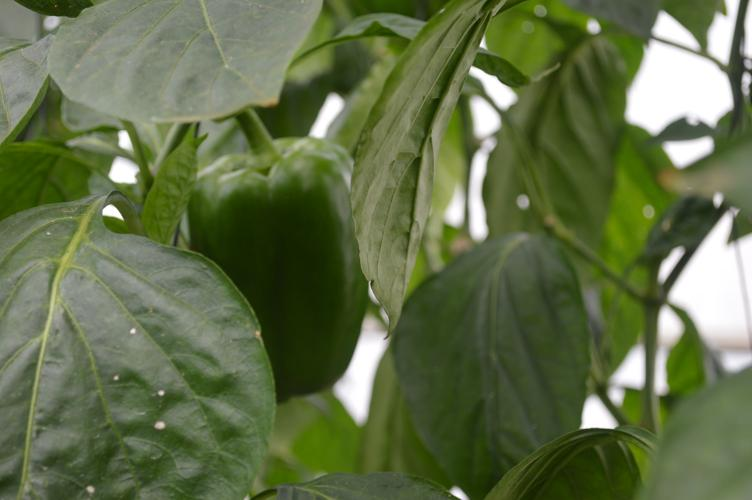BellPepper: (183, 135, 369, 397)
